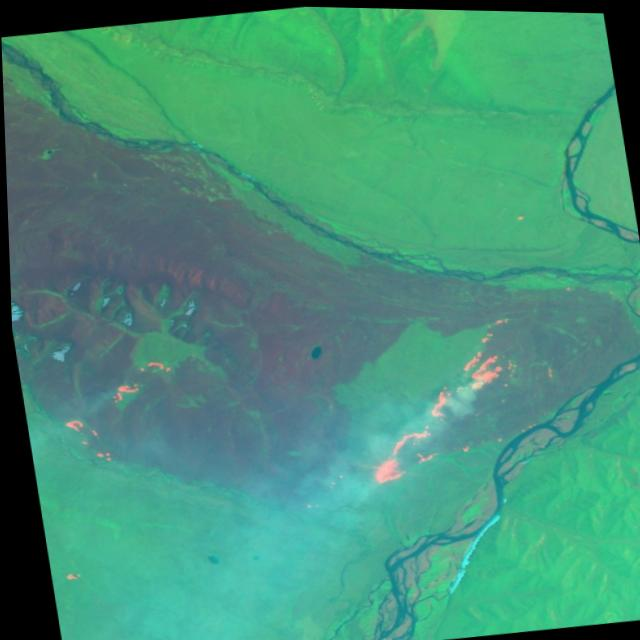fire: (337, 302, 550, 492), (39, 351, 179, 469)
